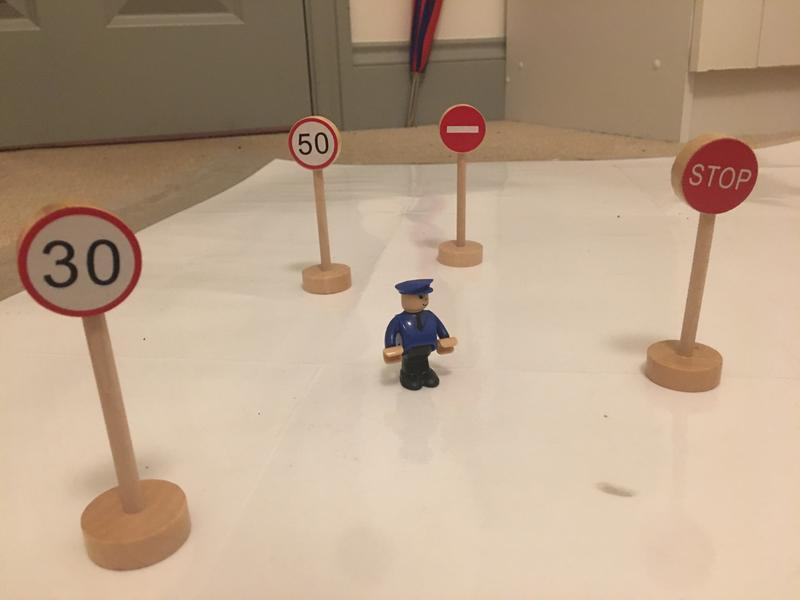Traffic_Sign_30: (20, 207, 142, 321)
Traffic_Sign_50: (288, 119, 338, 167)
Traffic_Sign_No_Entry: (441, 105, 484, 153)
Traffic_Sign_Stop: (683, 137, 757, 213)
person: (382, 276, 459, 395)
